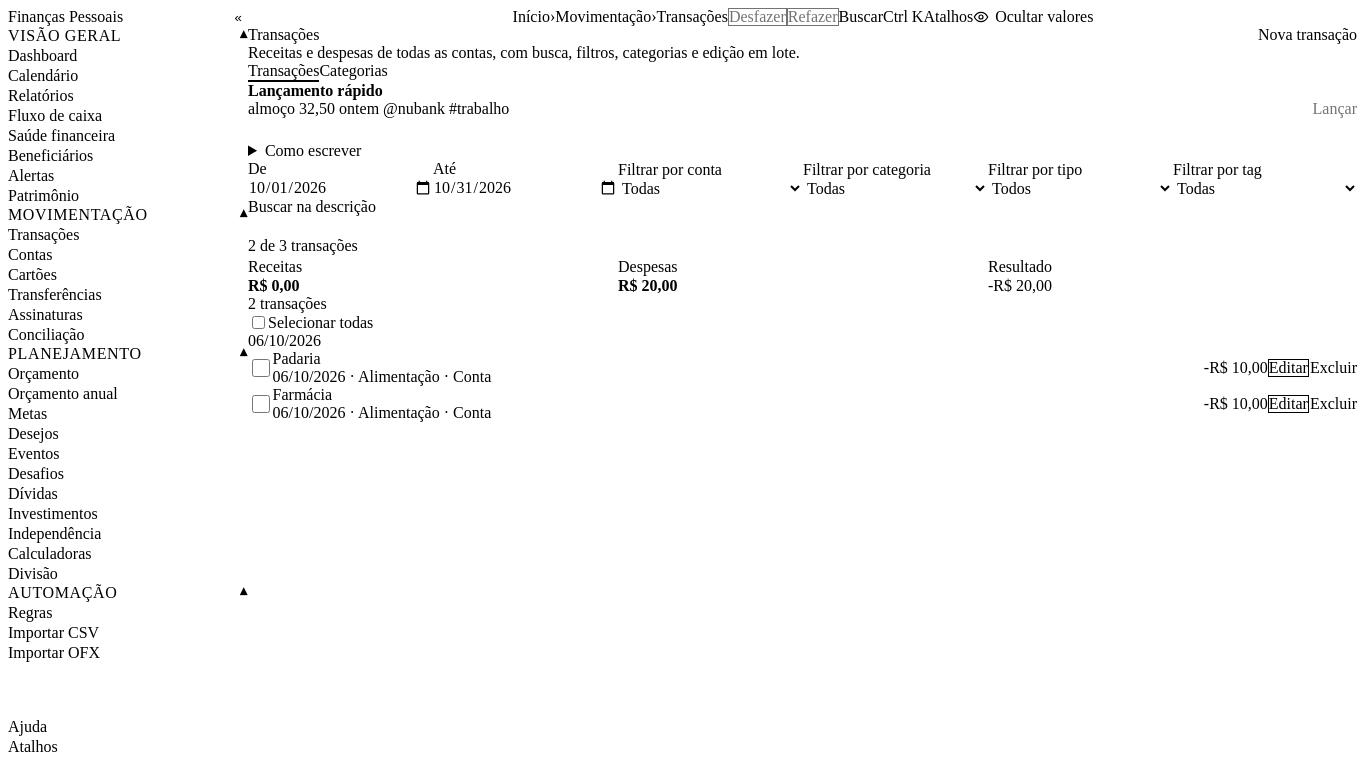
Test: redesenho de Transações: cabeçalho, filtros e abas › critério 2: filtros sempre visíveis na barra de busca, sem details, com resumo aria-live
Type "padar" into the field labelled "Buscar na descrição". click: x=340, y=225
box: [248,216,433,234]
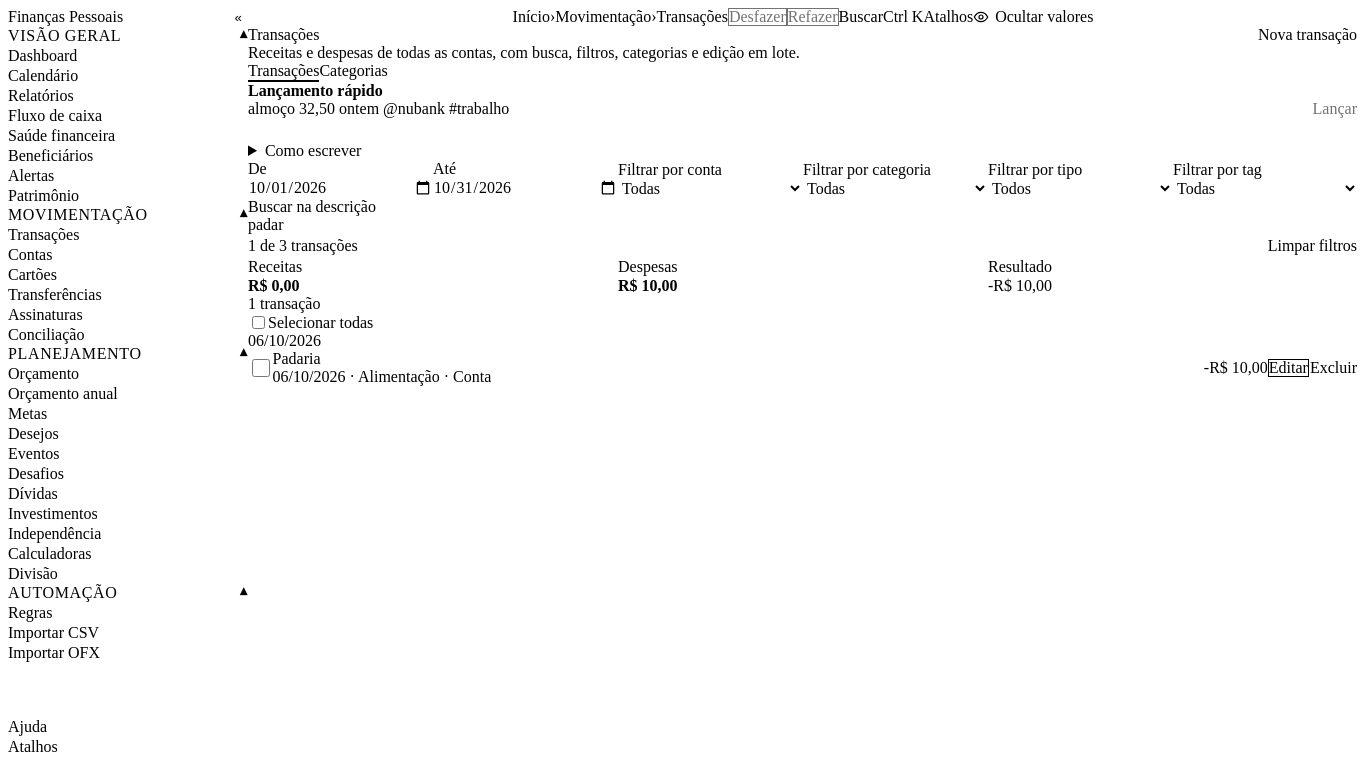
Expected: the text "1 de 3 transações" is shown, [248,237,358,255]
